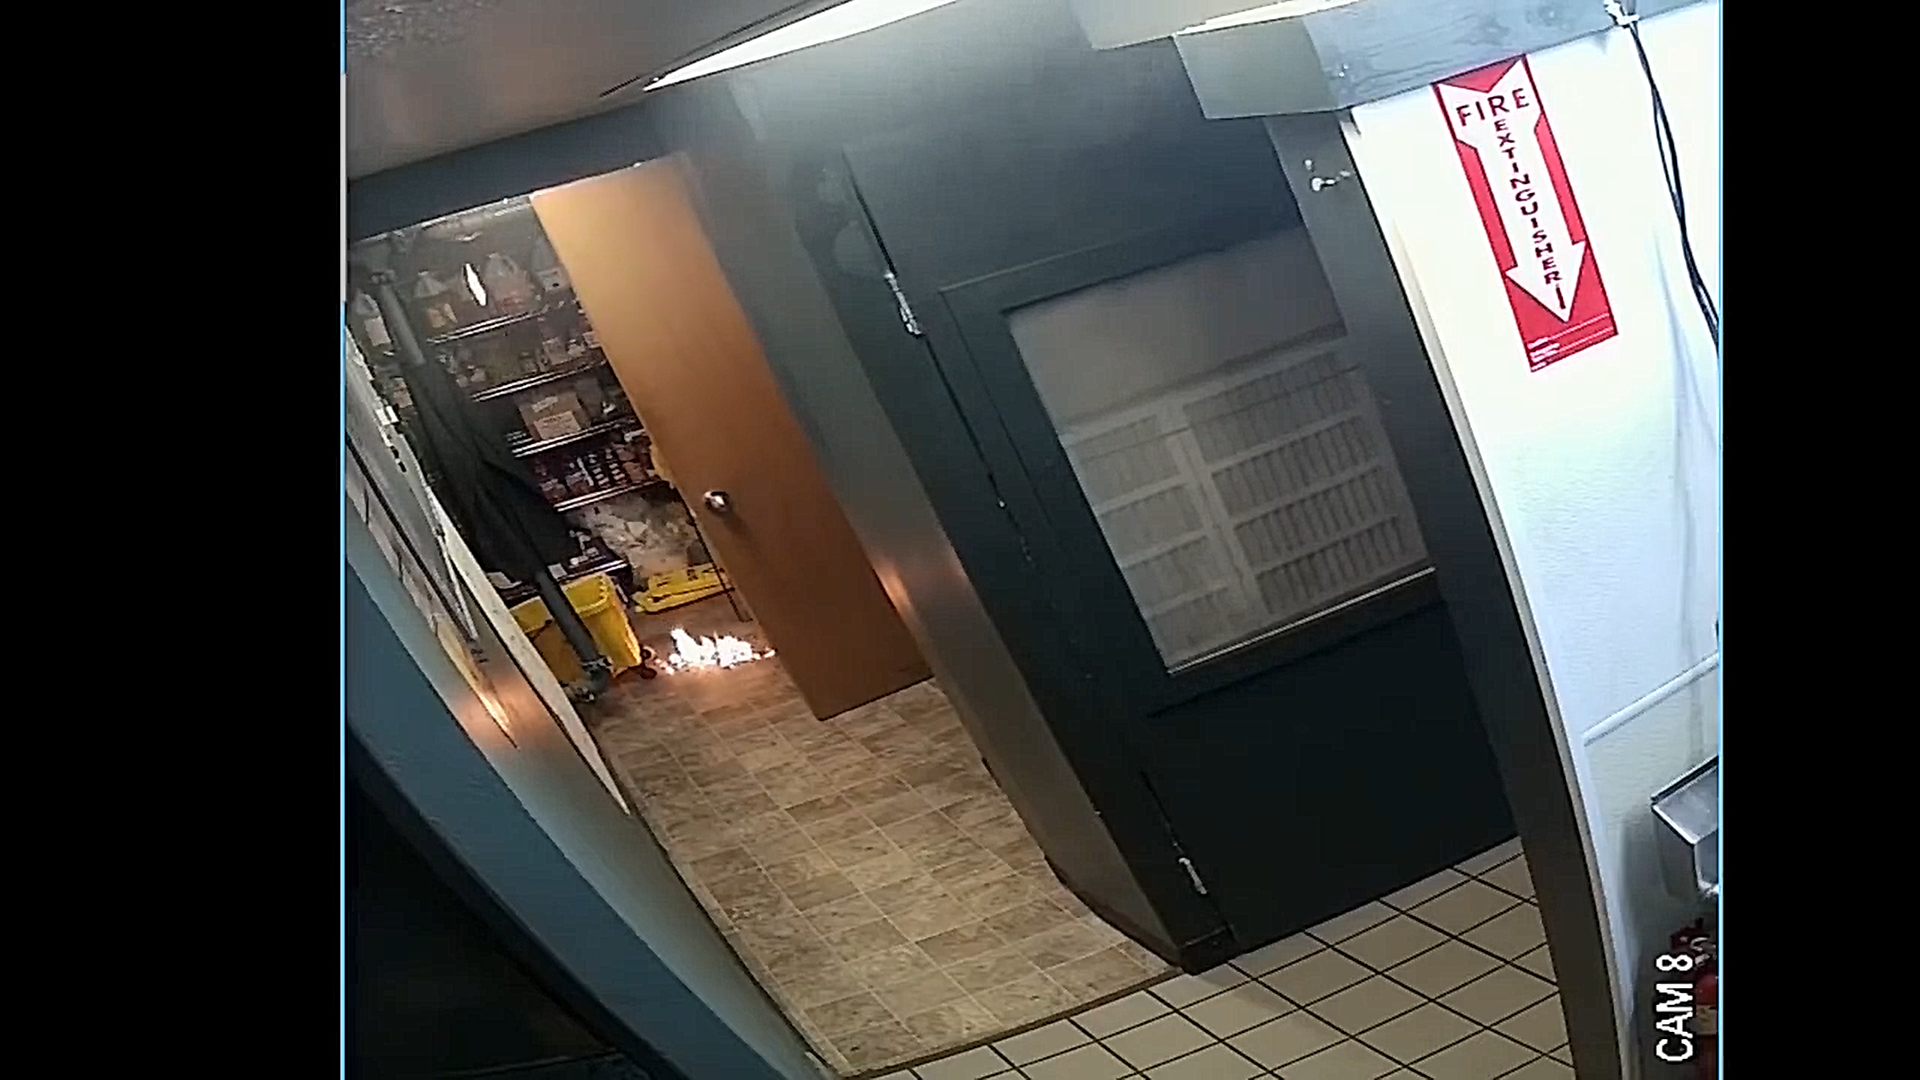fire: (633, 624, 791, 680)
